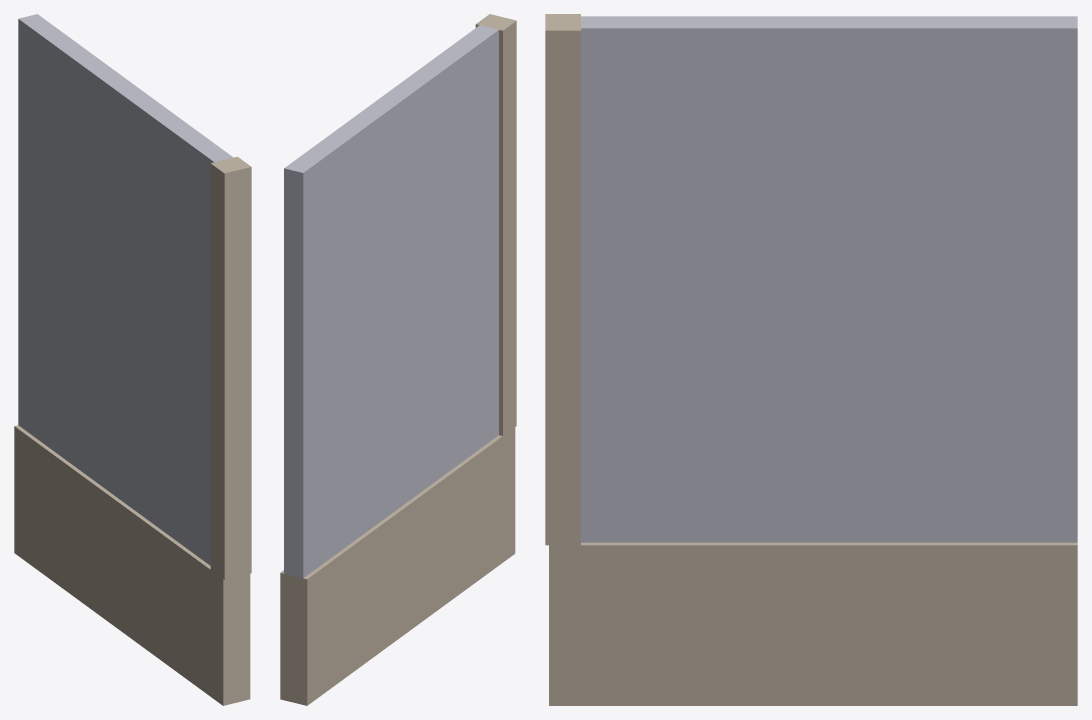
The model's file is SegmentWindow.fbx.
3 renders of one model, left to right at view 1: azimuth 30°, elevation 25°; view 2: azimuth 150°, elevation 25°; view 3: azimuth 270°, elevation 25°, orthographic. The views are drawn at different scales.
Visible parts, largest first — view 1: Cube.001, Cube.004, Cube.005; view 2: Cube.001, Cube.004, Cube.005; view 3: Cube.001, Cube.004, Cube.005.
Part boxes in pixels (bbox=[...]): Cube.001: bbox=[18, 14, 233, 565]; Cube.004: bbox=[14, 425, 250, 705]; Cube.005: bbox=[210, 156, 251, 579]; Cube.001: bbox=[284, 25, 498, 578]; Cube.004: bbox=[280, 427, 515, 705]; Cube.005: bbox=[475, 14, 516, 435]; Cube.001: bbox=[581, 16, 1077, 542]; Cube.004: bbox=[549, 542, 1077, 705]; Cube.005: bbox=[545, 14, 580, 545].
Size of the model in its own units: 22.34 by 420 by 300.
